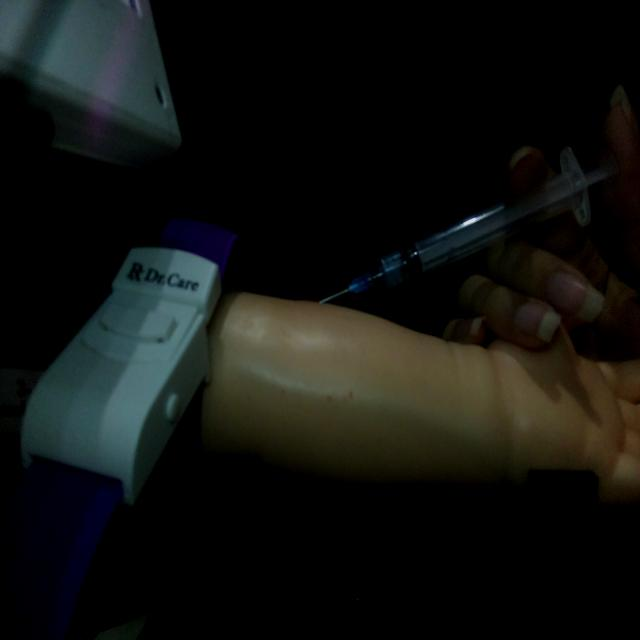15 degrees: (317, 142, 618, 307)
